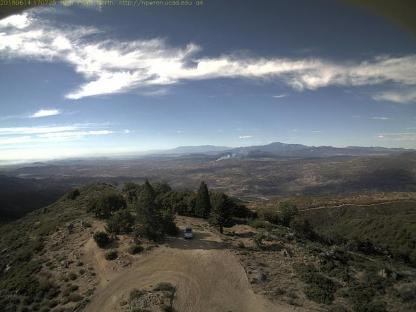smoke: (212, 144, 272, 164)
